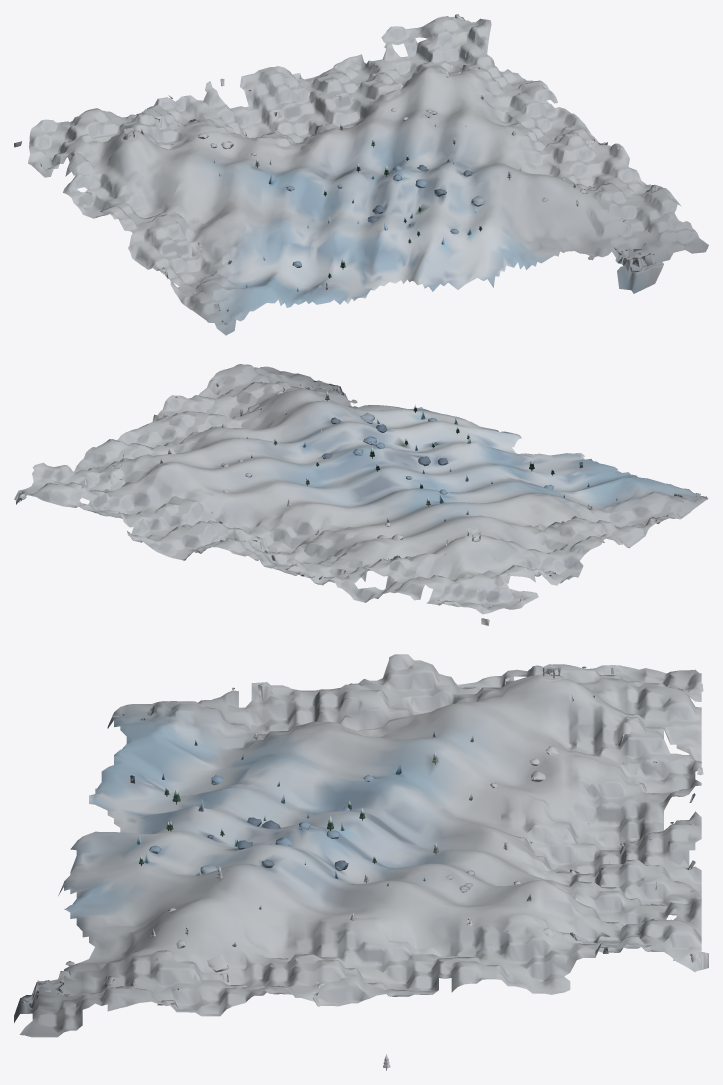
The model's file is frost_isl_aurora_arch_lod1.glb.
The picture shows the model from 3 angles, top to bottom: view 1: azimuth 30°, elevation 25°; view 2: azimuth 150°, elevation 25°; view 3: azimuth 270°, elevation 25°; orthographic projection. The views are drawn at different scales.
Parts seen in each view (by area): view 1: frost_isl_aurora_arch_lod1; view 2: frost_isl_aurora_arch_lod1; view 3: frost_isl_aurora_arch_lod1.
Part boxes in pixels (x1=…): frost_isl_aurora_arch_lod1: x1=14, y1=14, x2=708, y2=335; frost_isl_aurora_arch_lod1: x1=14, y1=364, x2=708, y2=625; frost_isl_aurora_arch_lod1: x1=14, y1=654, x2=708, y2=1070.
Bounding box in the file's own units: 242 × 49.27 × 222.
